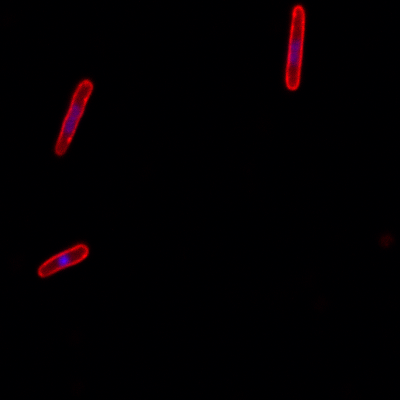Nalidixate: (52, 77, 95, 157), (282, 3, 307, 91), (36, 241, 90, 278)
